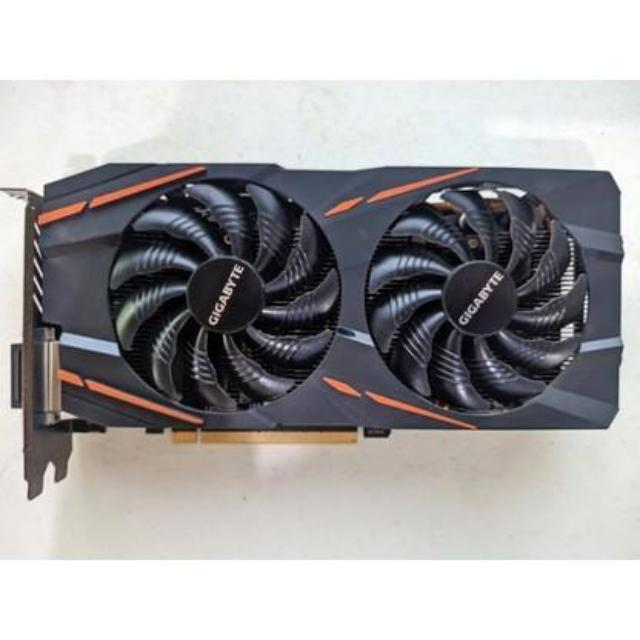GPU: (21, 162, 619, 444)
